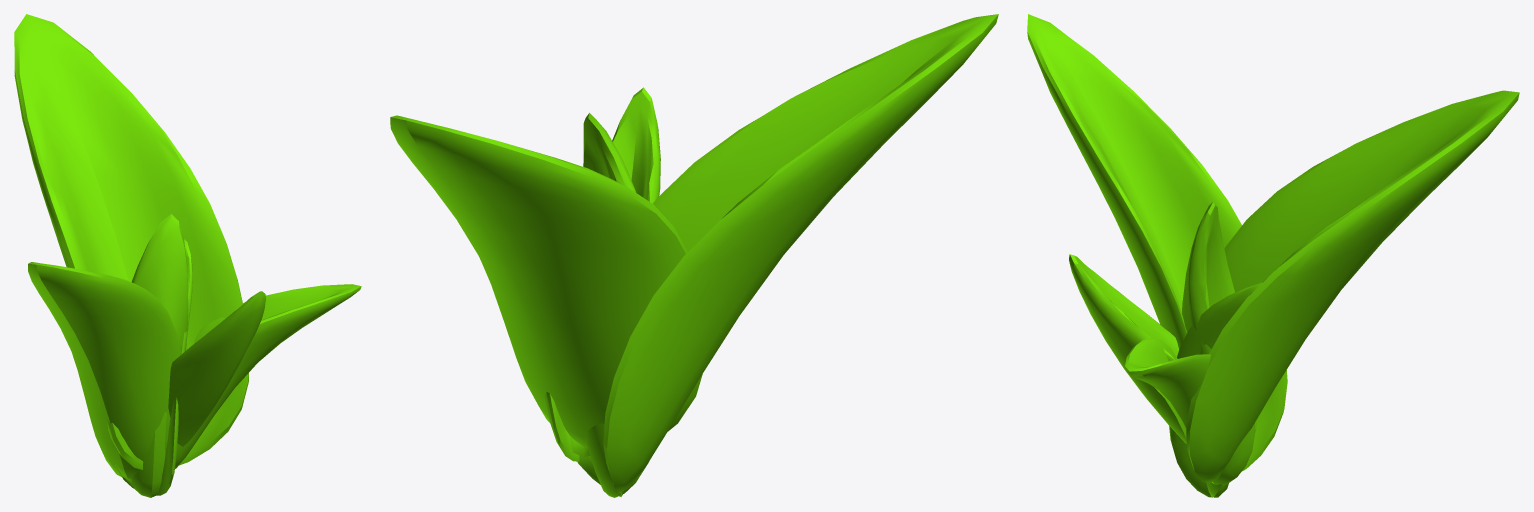
File: Grass1.fbx
3 views of the same model, side by side, from view 1: azimuth 30°, elevation 25°; view 2: azimuth 150°, elevation 25°; view 3: azimuth 270°, elevation 25° (orthographic). The views are drawn at different scales.
Parts seen in each view (by area): view 1: Grass; view 2: Grass; view 3: Grass.
Boxes of the visible parts, x1,y1,x2,y2 form: Grass: (14,14,361,497); Grass: (390,14,998,497); Grass: (1027,14,1519,497).
Size of the model in its own units: 40.26 by 39.07 by 42.34.
